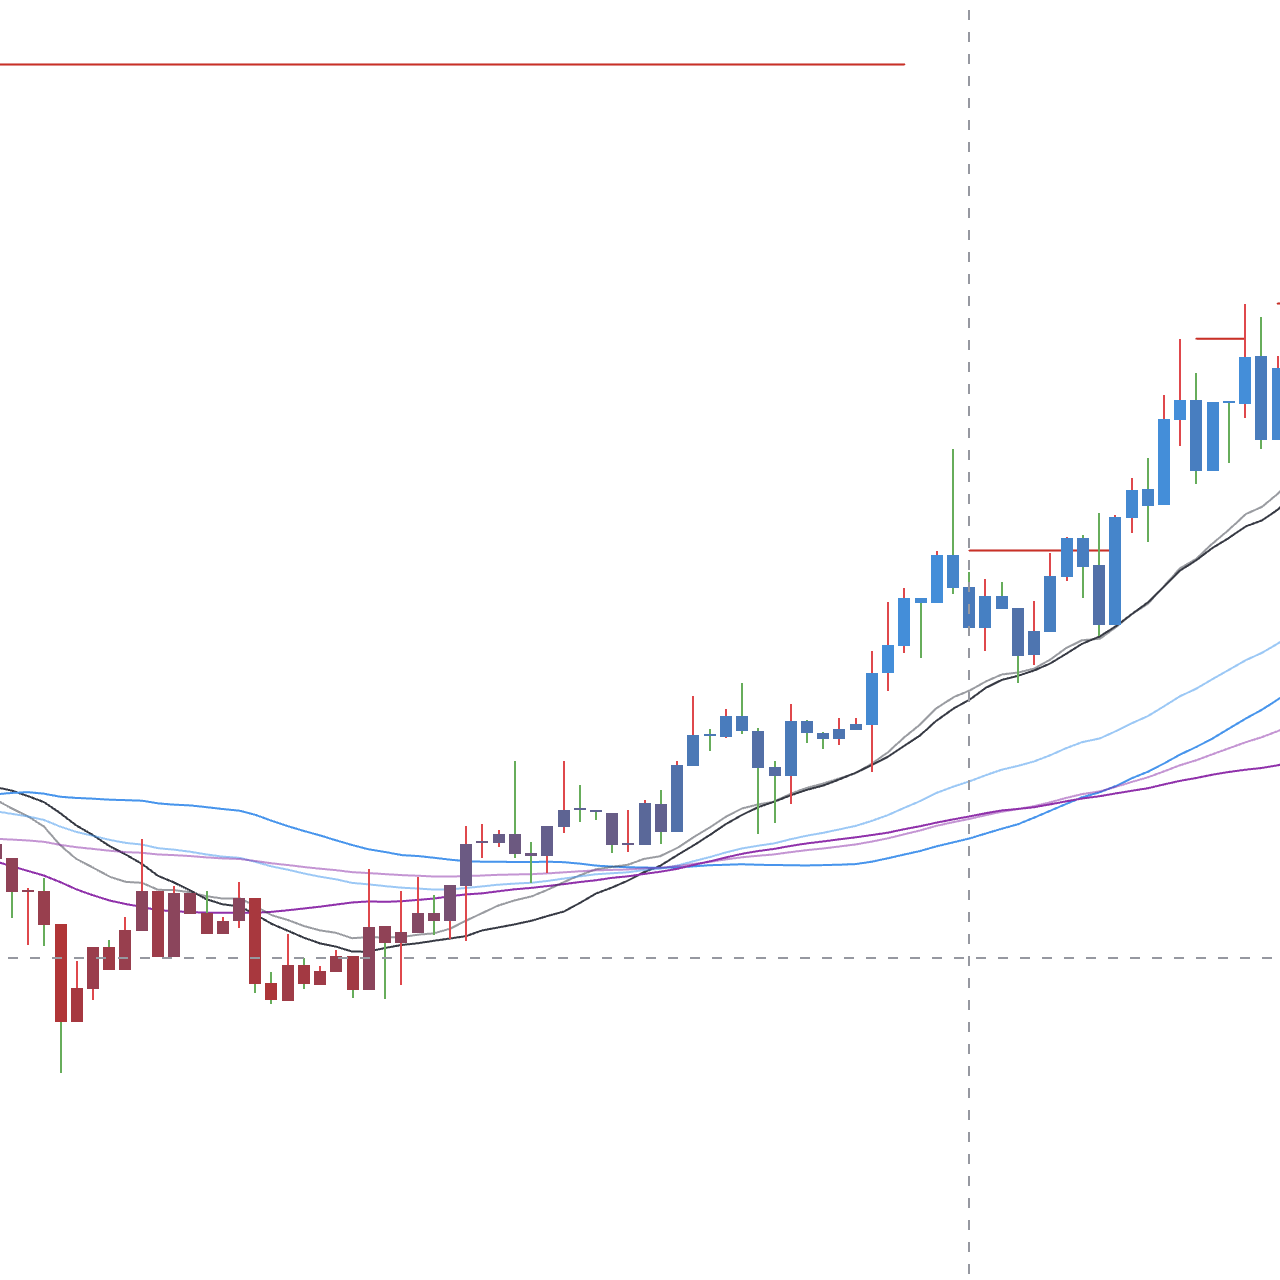ma_cluster: (501, 745, 729, 906)
